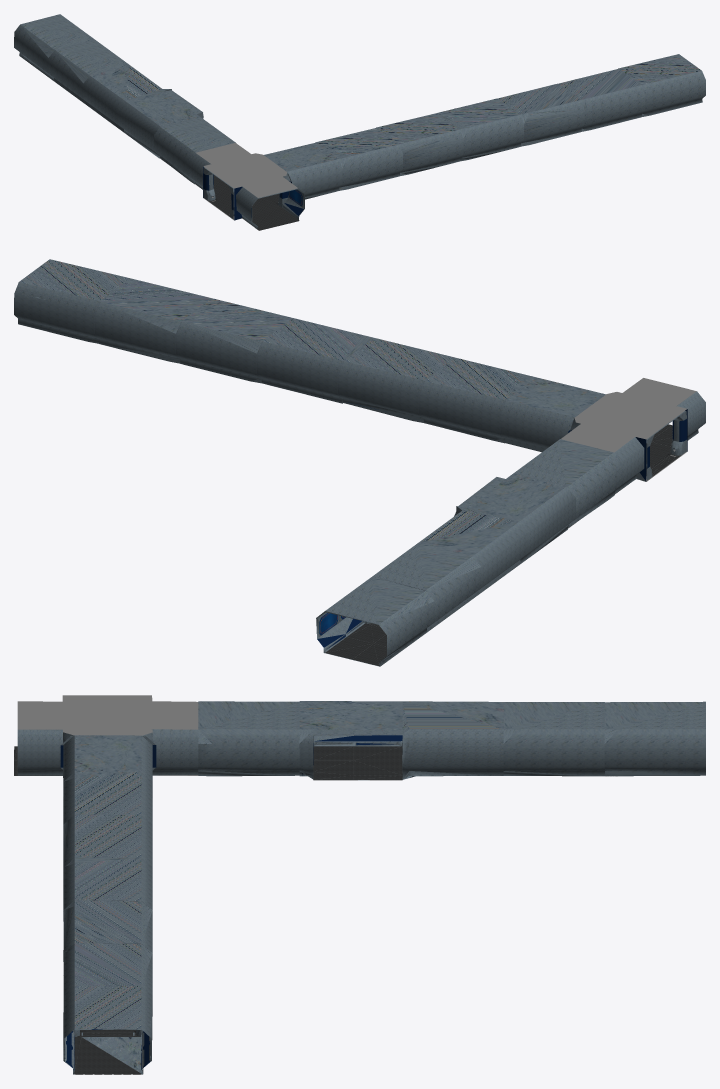
File: pasillo_5.obj
3 renders of one model, top to bottom at view 1: azimuth 30°, elevation 25°; view 2: azimuth 150°, elevation 25°; view 3: azimuth 270°, elevation 25°, orthographic. The views are drawn at different scales.
Parts seen in each view (by area): view 1: pasillo_comisaria:polySurface262, pasillo_comisaria:SUELO; view 2: pasillo_comisaria:polySurface262, pasillo_comisaria:SUELO; view 3: pasillo_comisaria:polySurface262, pasillo_comisaria:SUELO.
Boxes of the visible parts, x1,y1,x2,y2 form: pasillo_comisaria:polySurface262: [14, 14, 705, 229]; pasillo_comisaria:SUELO: [159, 157, 299, 230]; pasillo_comisaria:polySurface262: [14, 259, 705, 666]; pasillo_comisaria:SUELO: [325, 424, 698, 665]; pasillo_comisaria:polySurface262: [17, 695, 705, 1074]; pasillo_comisaria:SUELO: [14, 746, 617, 1073].
Bounding box in the file's own units: 260 × 16.86 × 228.
6 materials, 4 textured.
